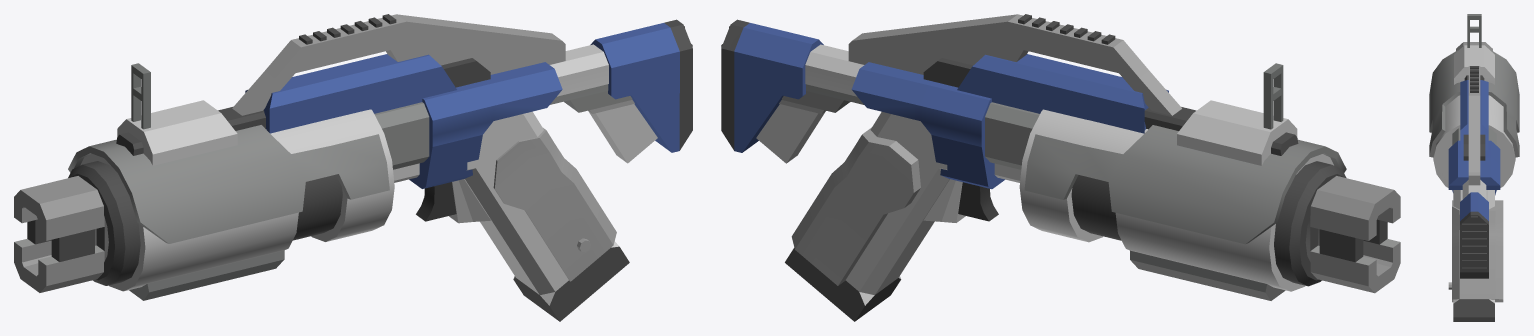
The model's file is Gun02.fbx.
3 views of the same model, side by side, from view 1: azimuth 30°, elevation 25°; view 2: azimuth 150°, elevation 25°; view 3: azimuth 270°, elevation 25° (orthographic). The views are drawn at different scales.
Visible parts, largest first — view 1: Gun02; view 2: Gun02; view 3: Gun02.
Boxes of the visible parts, <box> form: Gun02: <box>14,14,692,321</box>; Gun02: <box>721,14,1400,321</box>; Gun02: <box>1429,14,1519,321</box>.
Size of the model in its own units: 30.46 by 15.08 by 6.35.
Materials: 1 (1 with a texture image).
